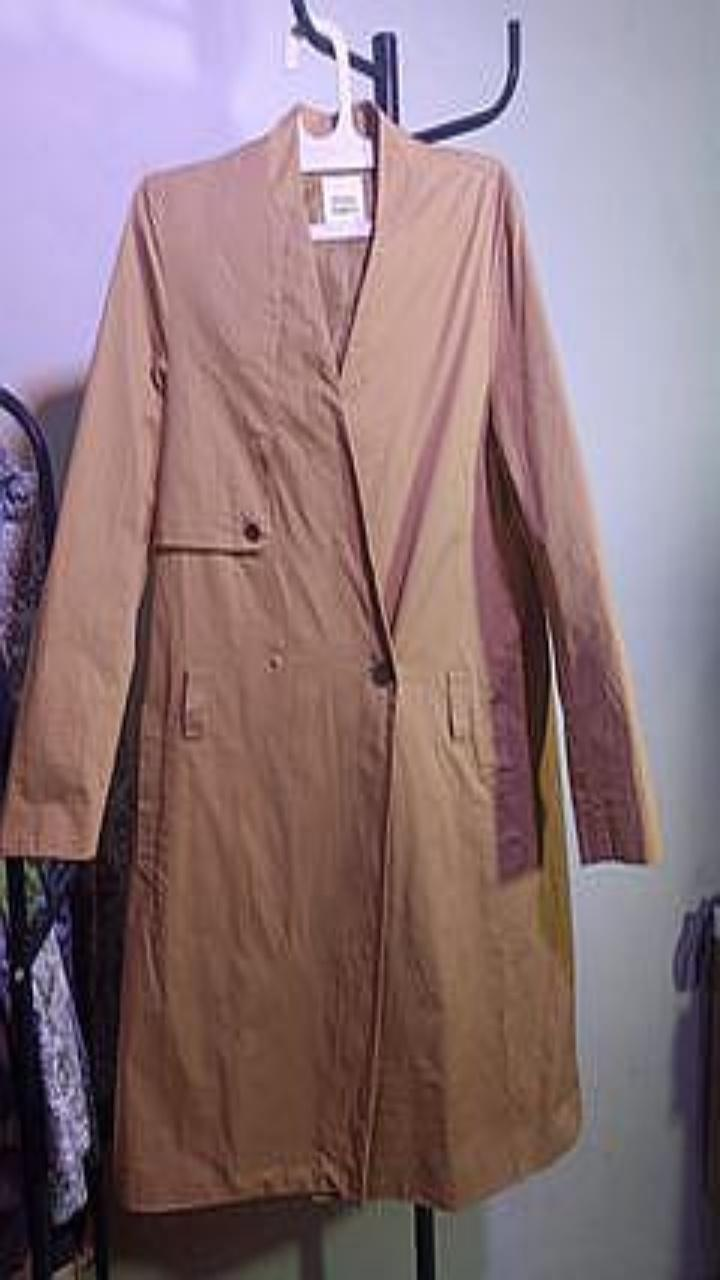Coat: (0, 99, 661, 1209)
